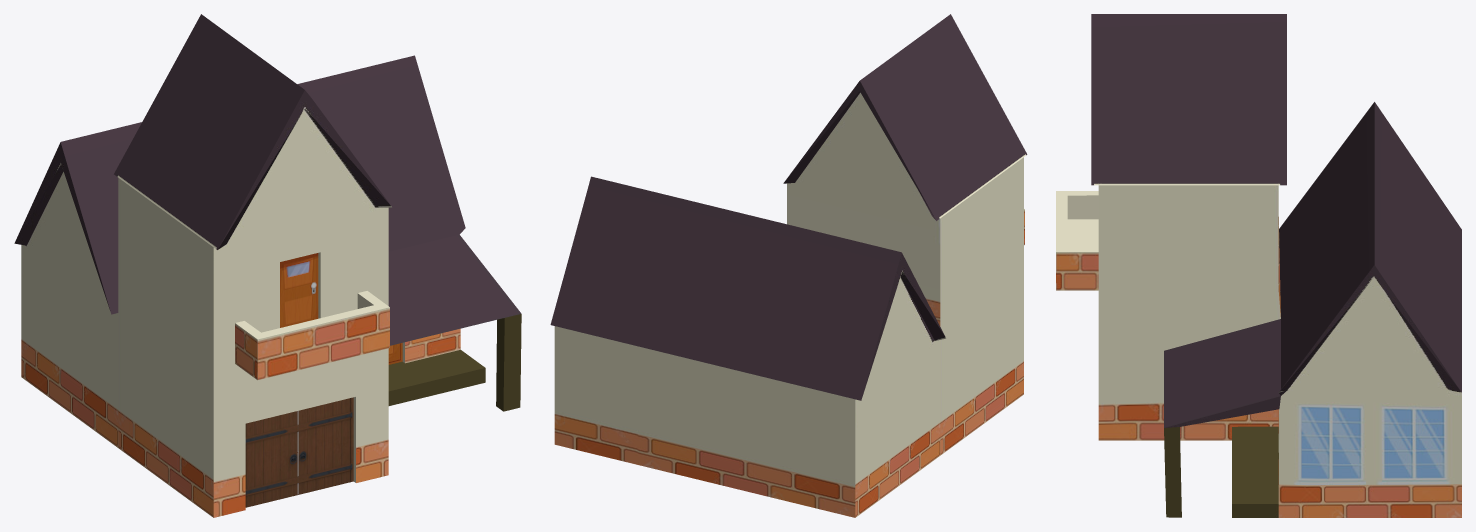
The model's file is newCasita.fbx.
The picture shows the model from 3 angles, left to right: view 1: azimuth 30°, elevation 25°; view 2: azimuth 150°, elevation 25°; view 3: azimuth 270°, elevation 25°; orthographic projection. The views are drawn at different scales.
Parts seen in each view (by area): view 1: pCube7; view 2: pCube7; view 3: pCube7.
Boxes of the visible parts, x1,y1,x2,y2 form: pCube7: (14, 14, 521, 517); pCube7: (550, 14, 1027, 517); pCube7: (1056, 14, 1461, 517).
Size of the model in its own units: 92.45 by 102 by 97.13.
1 material, 1 textured.
